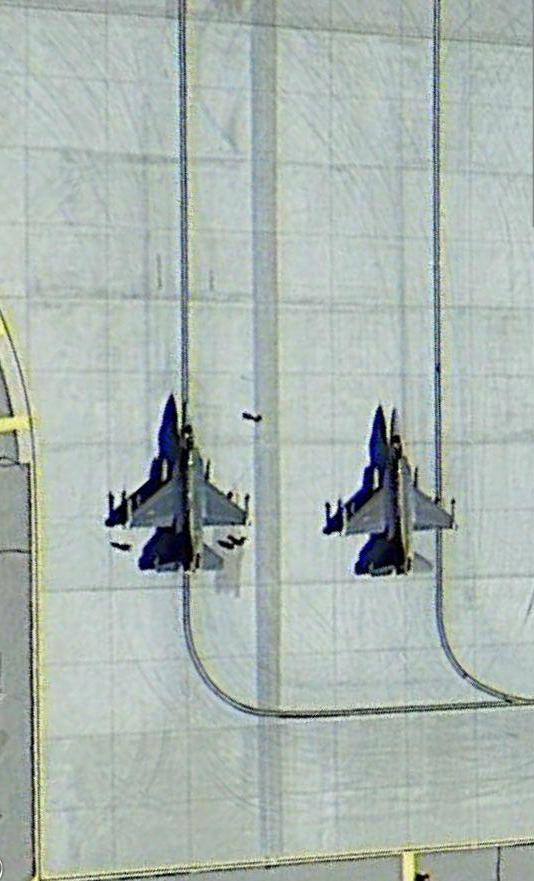F-16: (329, 397, 459, 580), (119, 402, 254, 574)
